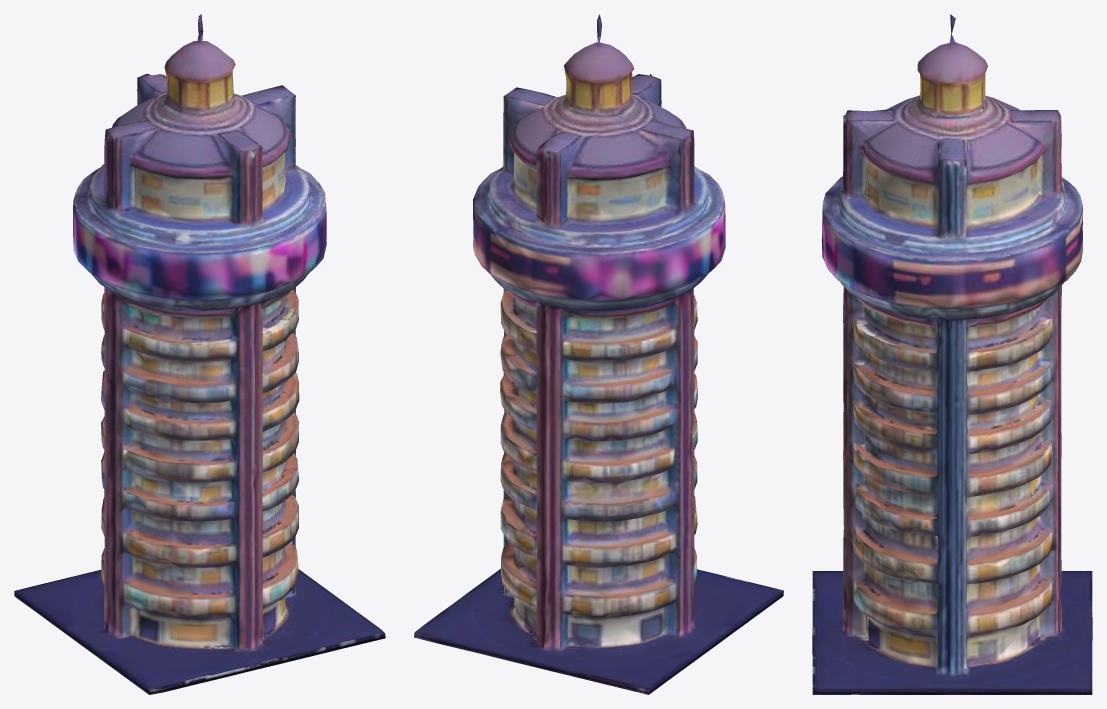
File: tower-03.glb
3 views of the same model, side by side, from view 1: azimuth 30°, elevation 25°; view 2: azimuth 150°, elevation 25°; view 3: azimuth 270°, elevation 25° (orthographic). The views are drawn at different scales.
Visible parts, largest first — view 1: model; view 2: model; view 3: model.
Boxes of the visible parts, <box> form: model: <box>14,14,385,694</box>; model: <box>414,14,783,694</box>; model: <box>812,14,1092,694</box>.
Bounding box in the file's own units: 0.7738 × 1.89 × 0.7726.
1 material, 1 textured.
